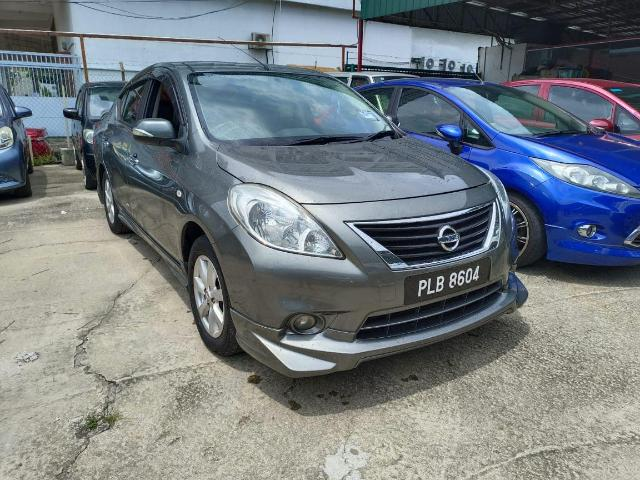License_Plate: (402, 268, 496, 303)
